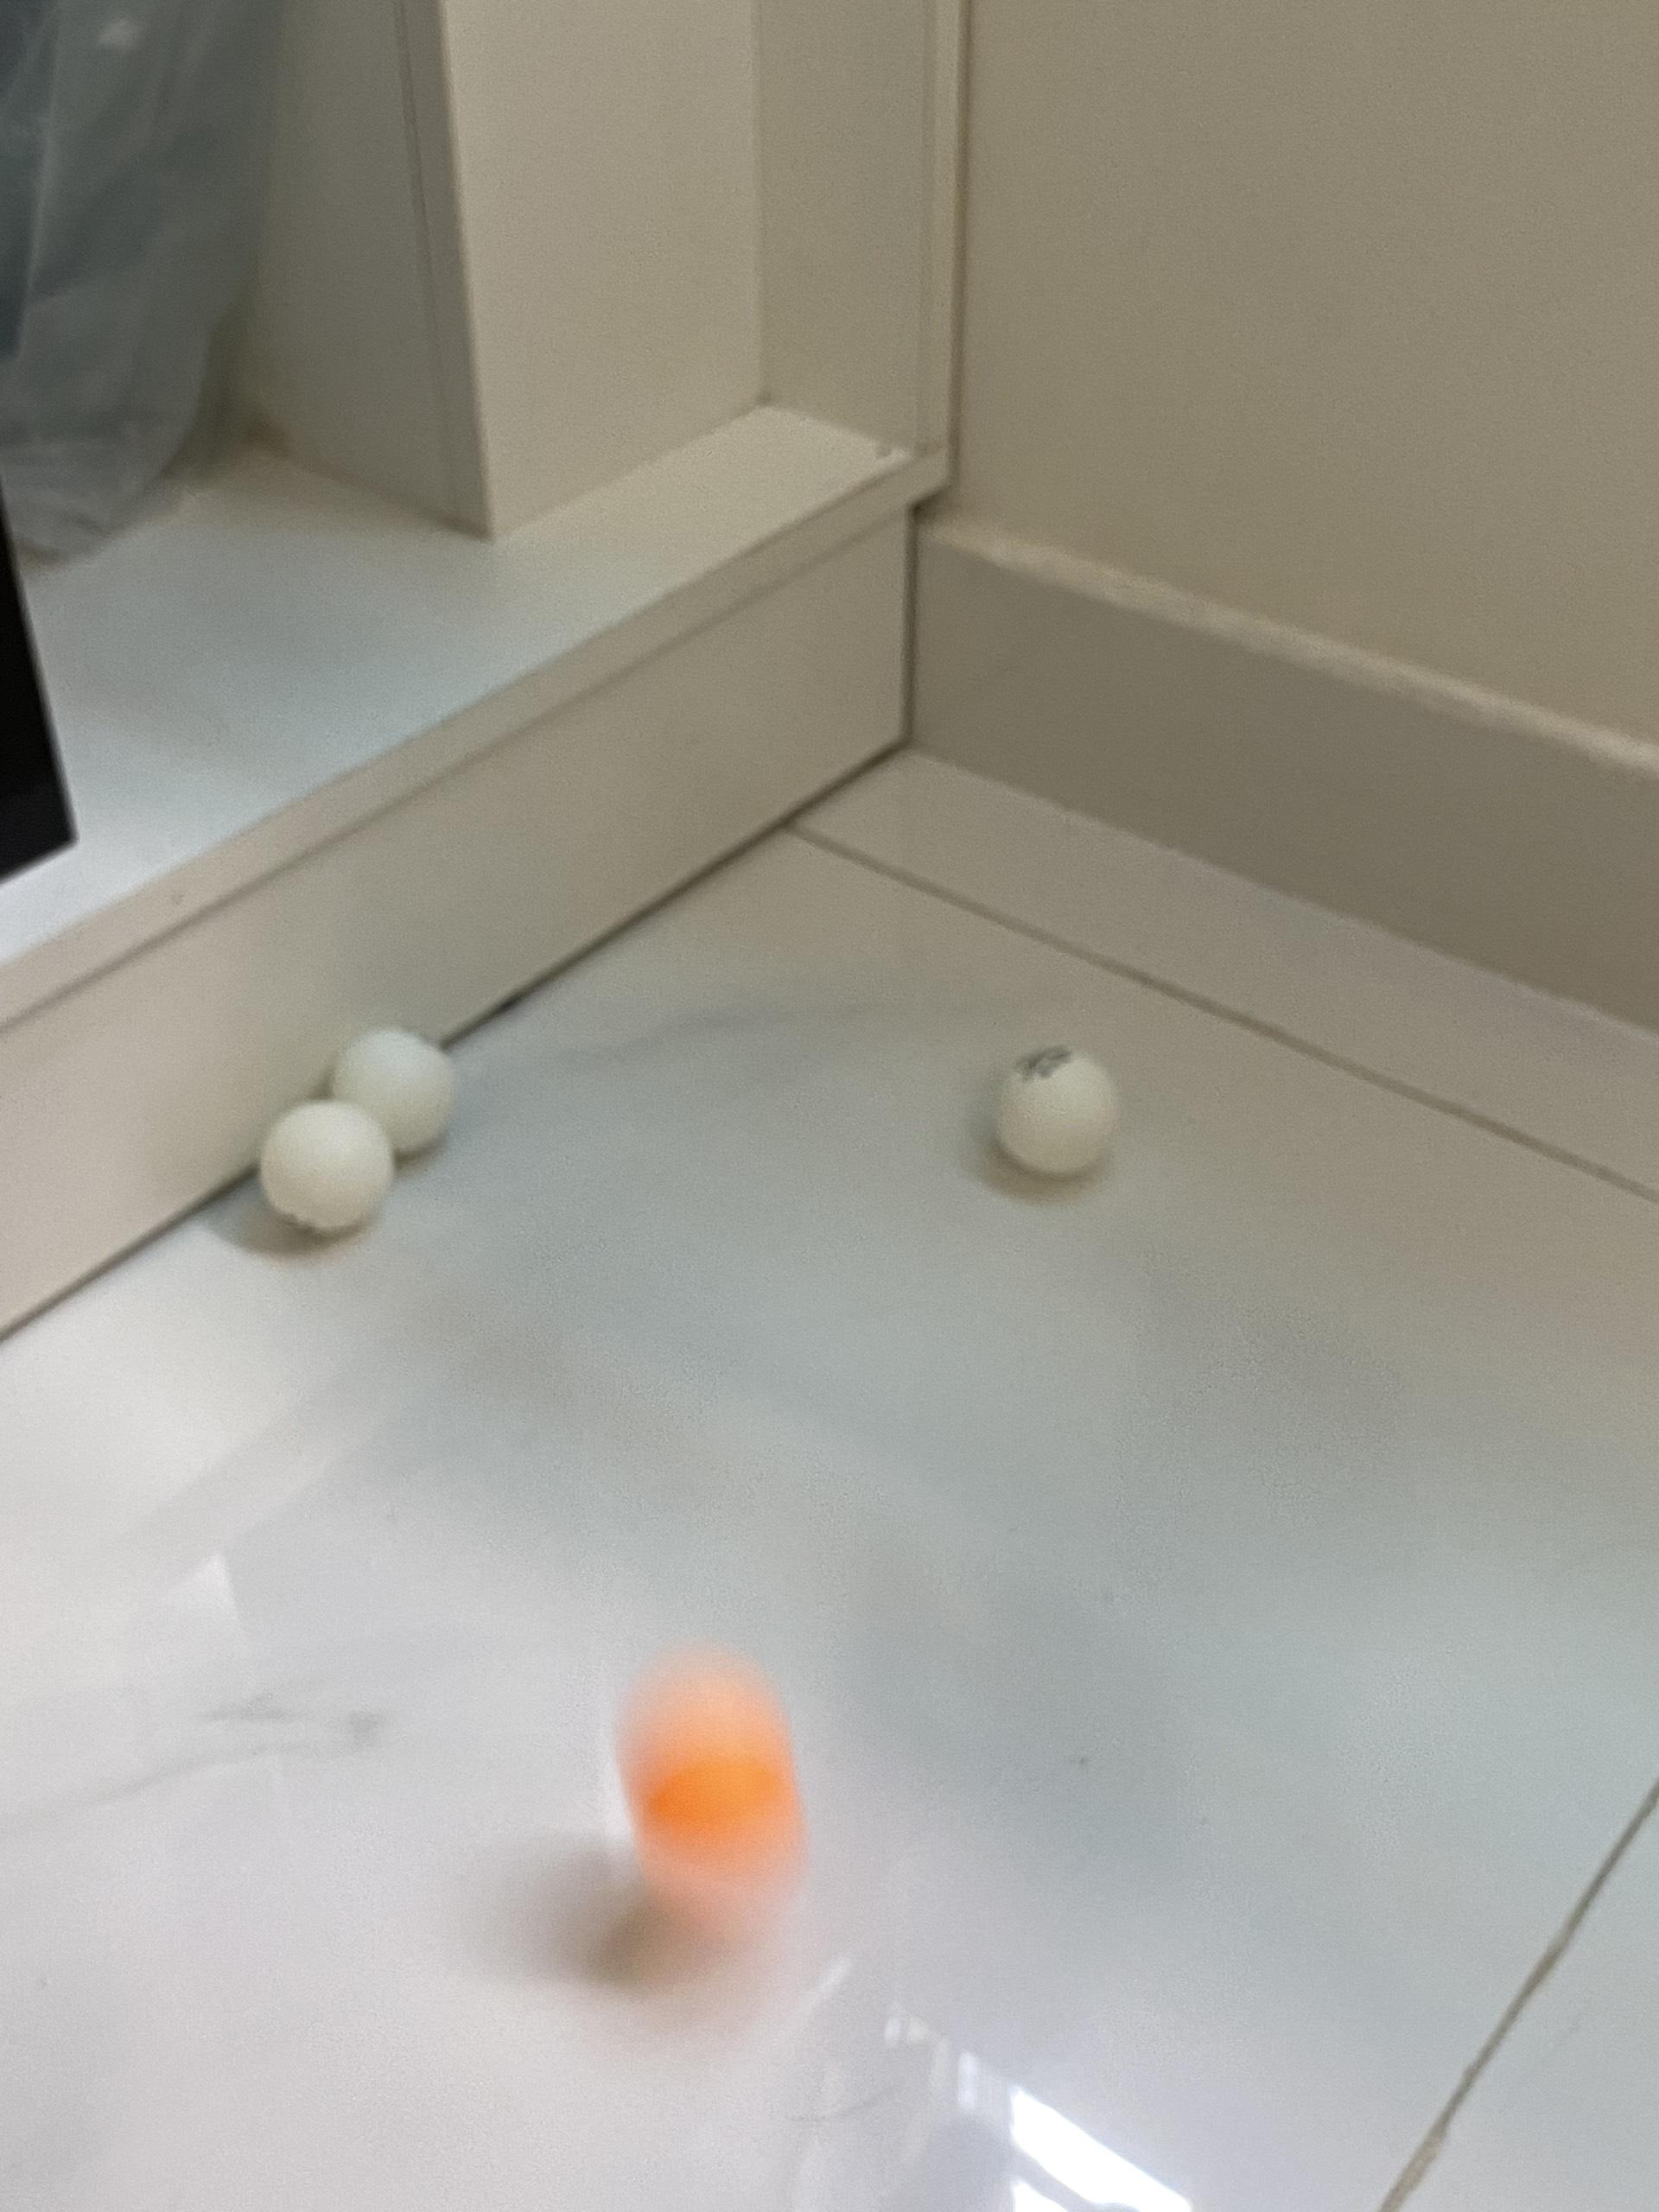oball: (627, 1674, 800, 1904)
